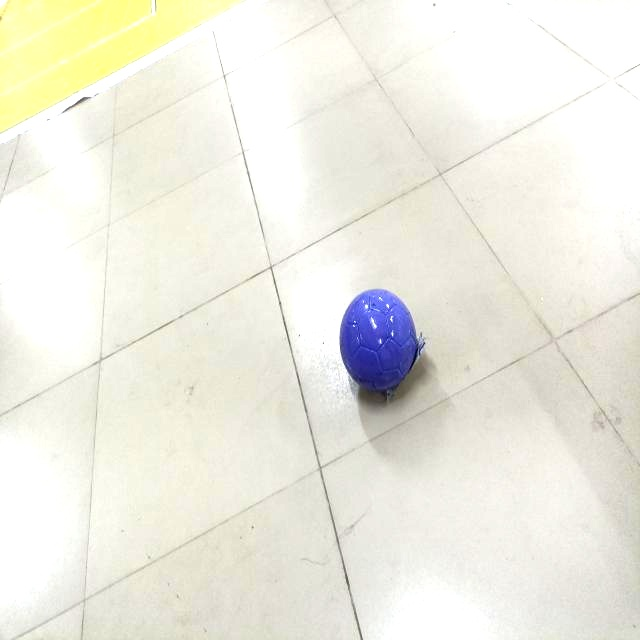purple_ball: (337, 286, 423, 410)
